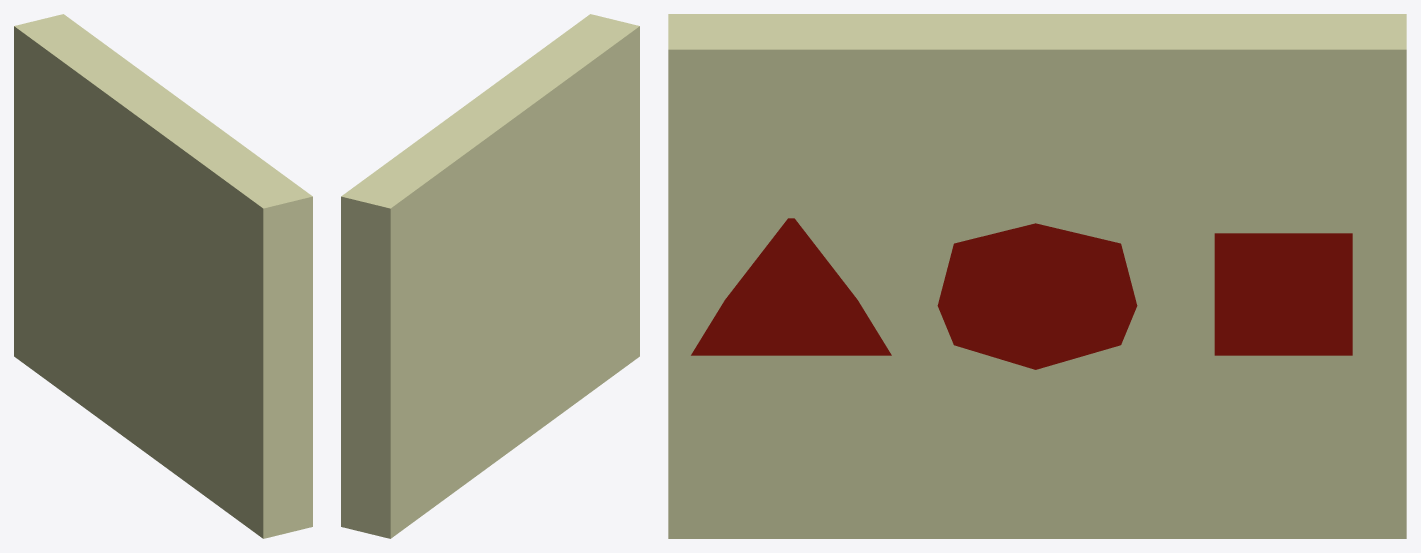
Rendered from PaperPaintings.fbx.
3 views of the same model, side by side, from view 1: azimuth 30°, elevation 25°; view 2: azimuth 150°, elevation 25°; view 3: azimuth 270°, elevation 25° (orthographic). The views are drawn at different scales.
Parts seen in each view (by area): view 1: Box001; view 2: Box001; view 3: Box001.
Boxes of the visible parts, x1=… form: Box001: x1=14, y1=14, x2=312, y2=538; Box001: x1=341, y1=14, x2=639, y2=538; Box001: x1=668, y1=14, x2=1406, y2=538.
Bounding box in the file's own units: 6.26 × 39.91 × 54.59.
